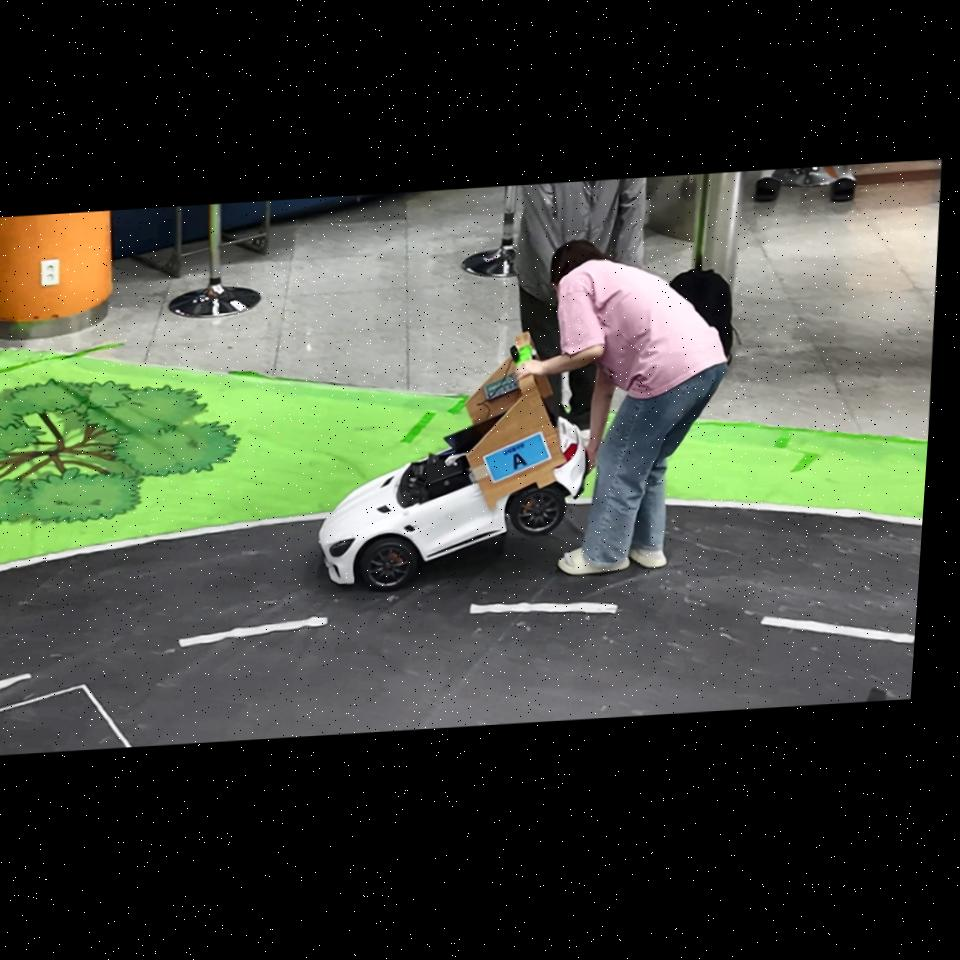broken_line: (180, 616, 328, 647), (760, 617, 915, 643), (469, 602, 618, 614), (0, 673, 31, 690)
